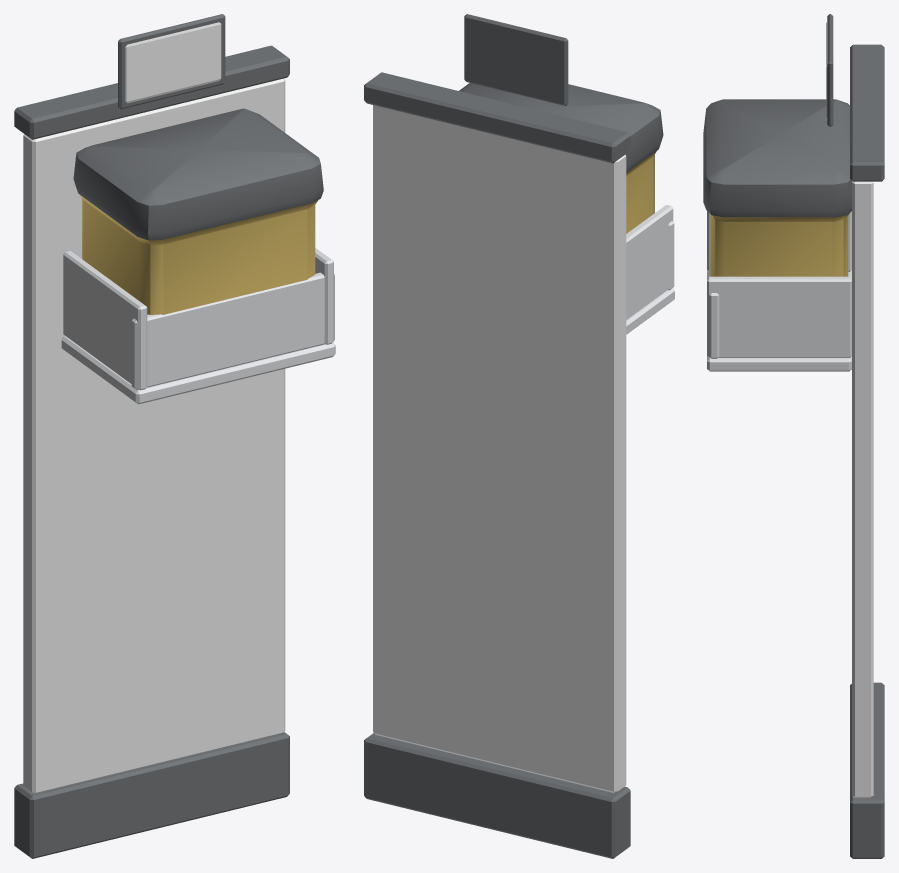
Rendered from clinic-and-veterinary-practice-sharps-bin-holder-c7275fc0__16745.glb.
3 views of the same model, side by side, from view 1: azimuth 30°, elevation 25°; view 2: azimuth 150°, elevation 25°; view 3: azimuth 270°, elevation 25° (orthographic). The views are drawn at different scales.
Visible parts, largest first — view 1: sharps-bin-holder; view 2: sharps-bin-holder; view 3: sharps-bin-holder.
Part boxes in pixels (bbox=[...]): sharps-bin-holder: bbox=[14, 14, 335, 858]; sharps-bin-holder: bbox=[364, 14, 674, 858]; sharps-bin-holder: bbox=[703, 14, 884, 858].
Size of the model in its own units: 0.39 by 1.16 by 0.2499.
